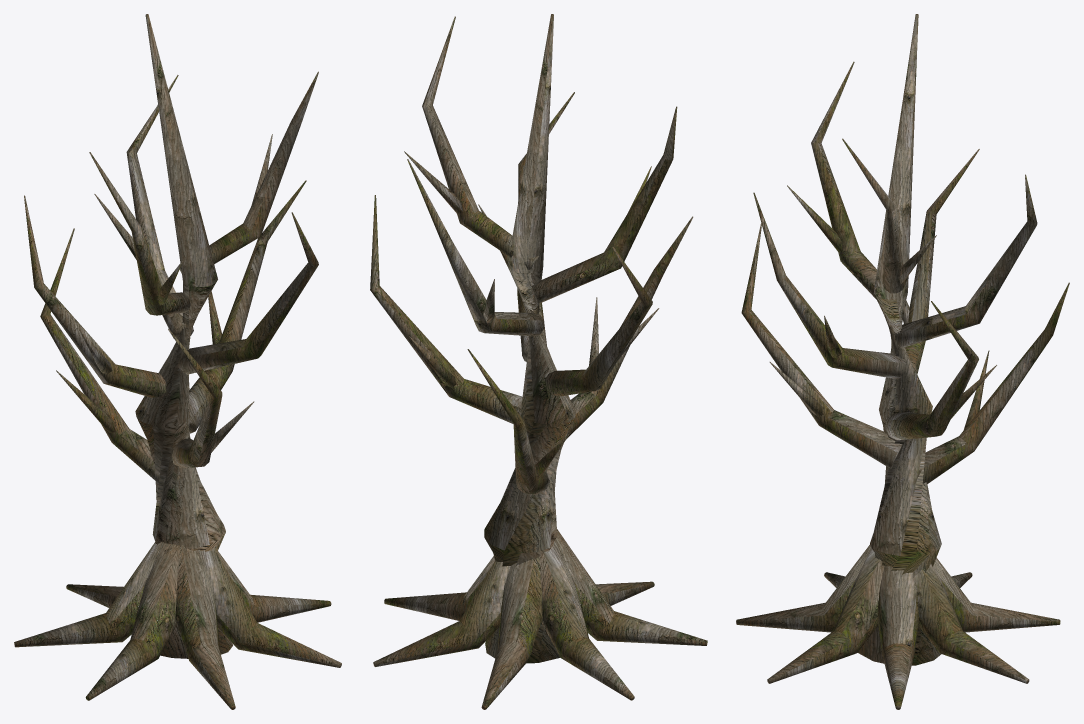
File: ancient_tree_2.glb
3 renders of one model, left to right at view 1: azimuth 30°, elevation 25°; view 2: azimuth 150°, elevation 25°; view 3: azimuth 270°, elevation 25°, orthographic. The views are drawn at different scales.
Parts seen in each view (by area): view 1: Ancient trunk; view 2: Ancient trunk; view 3: Ancient trunk.
Part boxes in pixels (<box>): Ancient trunk: <box>14,14,341,709</box>; Ancient trunk: <box>370,14,707,709</box>; Ancient trunk: <box>736,14,1069,709</box>.
Size of the model in its own units: 4.2 by 9.08 by 4.43.
Materials: 1 (1 with a texture image).
